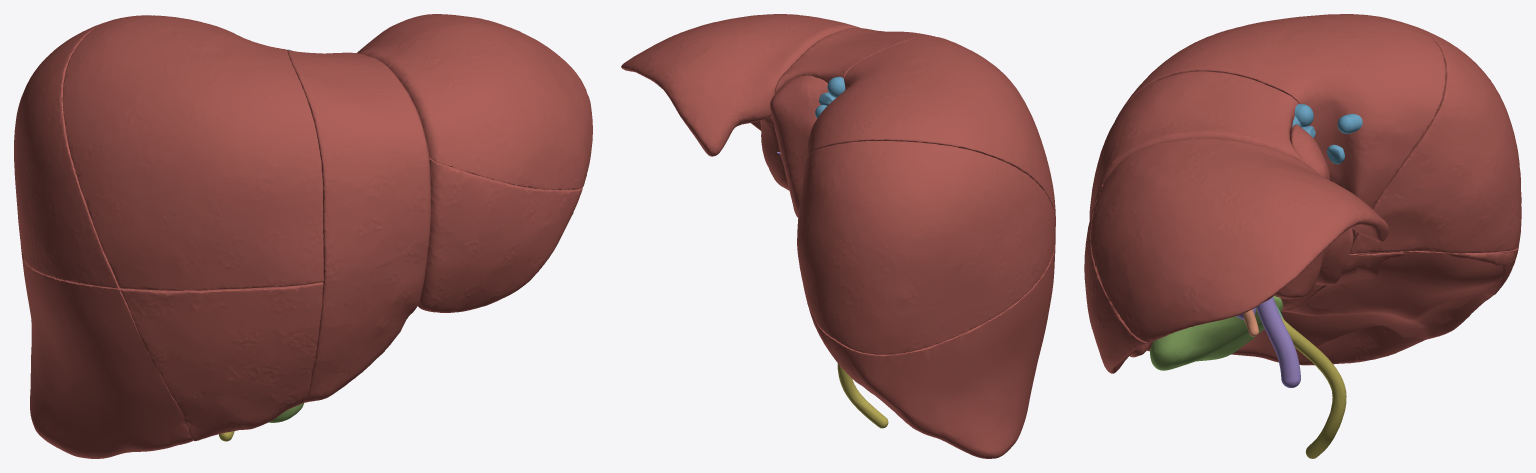
The model's file is liver.glb.
3 renders of one model, left to right at view 1: azimuth 30°, elevation 25°; view 2: azimuth 150°, elevation 25°; view 3: azimuth 270°, elevation 25°, orthographic. The views are drawn at different scales.
Parts seen in each view (by area): view 1: liver; view 2: liver, biliary, hepatic-veins; view 3: liver, gallbladder, biliary, portal, hepatic-veins.
Part boxes in pixels (<box>): liver: <box>14,14,592,458</box>; liver: <box>621,14,1055,458</box>; biliary: <box>837,363,888,428</box>; hepatic-veins: <box>815,76,845,118</box>; liver: <box>1084,14,1521,373</box>; gallbladder: <box>1150,296,1282,370</box>; biliary: <box>1256,308,1346,458</box>; portal: <box>1236,297,1300,387</box>; hepatic-veins: <box>1292,104,1362,164</box>.
Size of the model in its own units: 4.19 by 3.27 by 3.18.
